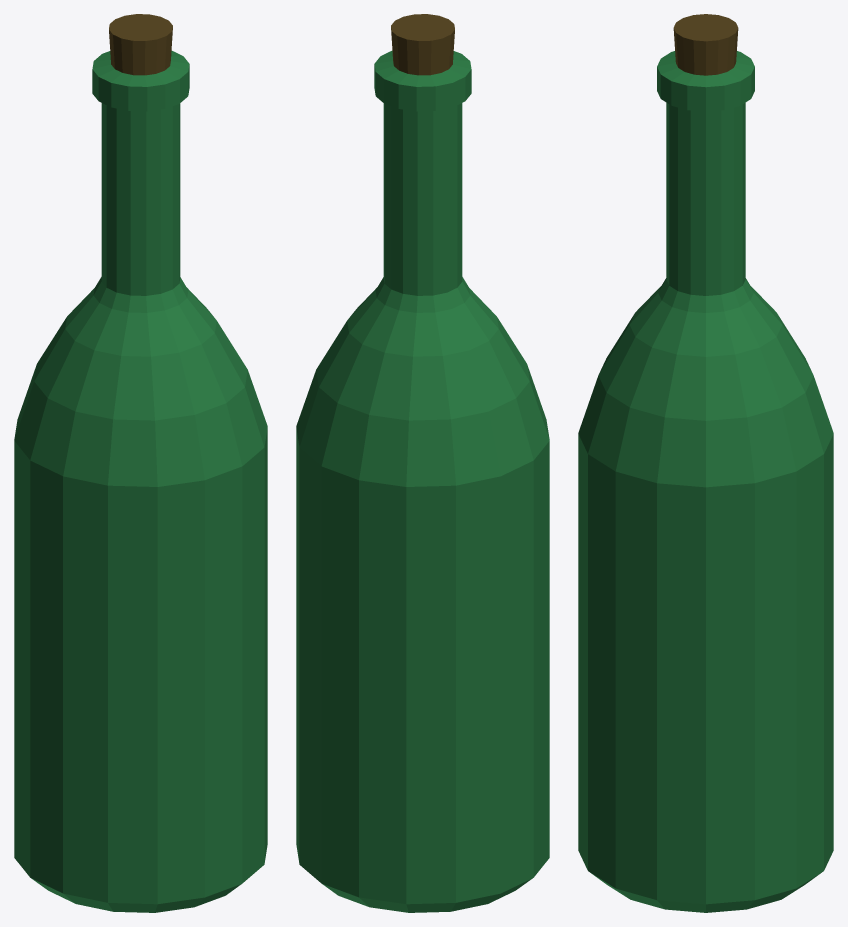
The model's file is bottle.fbx.
The picture shows the model from 3 angles, left to right: view 1: azimuth 30°, elevation 25°; view 2: azimuth 150°, elevation 25°; view 3: azimuth 270°, elevation 25°; orthographic projection.
Visible parts, largest first — view 1: Cylinder; view 2: Cylinder; view 3: Cylinder.
Boxes of the visible parts, x1,y1,x2,y2 form: Cylinder: [14, 14, 267, 912]; Cylinder: [296, 14, 549, 912]; Cylinder: [578, 14, 833, 912].
Size of the model in its own units: 9.01 by 32.69 by 9.01.
